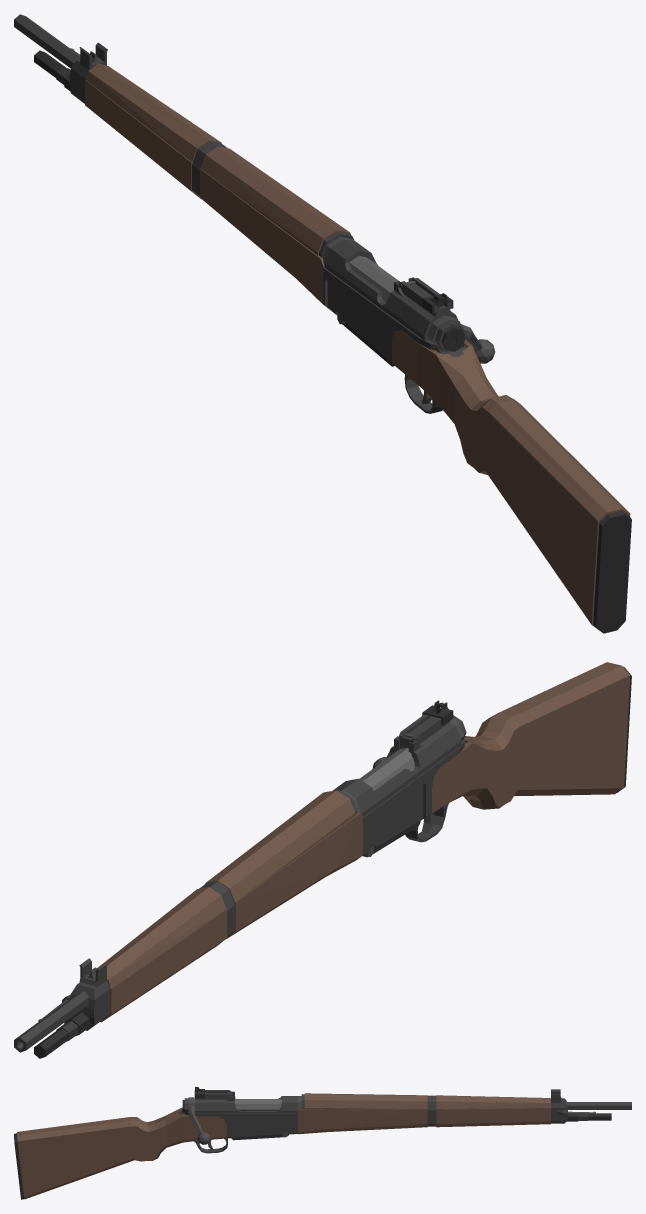
3 renders of one model, top to bottom at view 1: azimuth 30°, elevation 25°; view 2: azimuth 150°, elevation 25°; view 3: azimuth 270°, elevation 25°, orthographic. The views are drawn at different scales.
Parts seen in each view (by area): view 1: mas-36; view 2: mas-36; view 3: mas-36.
Part boxes in pixels (x1=…): mas-36: x1=14, y1=14, x2=631, y2=633; mas-36: x1=14, y1=662, x2=631, y2=1058; mas-36: x1=14, y1=1087, x2=631, y2=1199.
Size of the model in its own units: 0.0788 by 0.2002 by 1.02.
